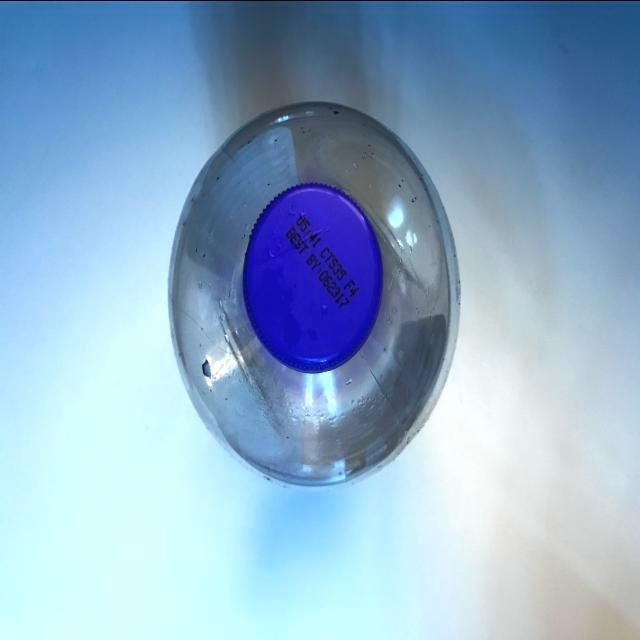plastic: (164, 91, 484, 524)
